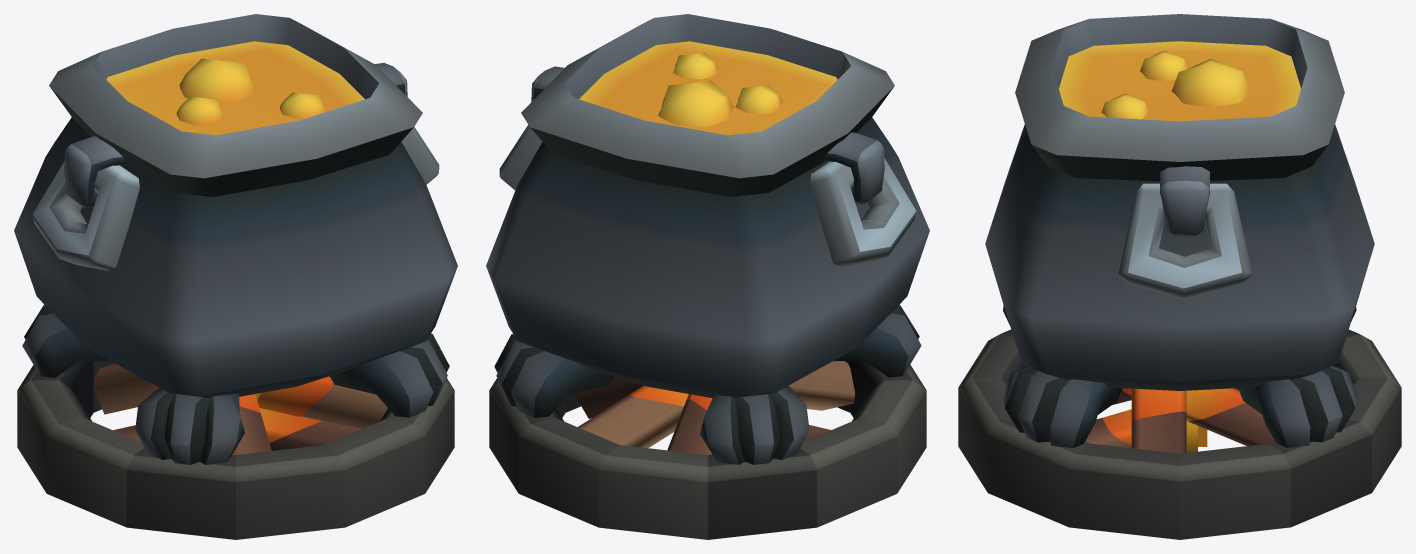
Rendered from fire_pit_pot_soup.fbx.
3 views of the same model, side by side, from view 1: azimuth 30°, elevation 25°; view 2: azimuth 150°, elevation 25°; view 3: azimuth 270°, elevation 25° (orthographic).
Visible parts, largest first — view 1: fire_pit_pot_soup; view 2: fire_pit_pot_soup; view 3: fire_pit_pot_soup.
Boxes of the visible parts, <box> form: fire_pit_pot_soup: <box>14,14,457,539</box>; fire_pit_pot_soup: <box>486,14,929,539</box>; fire_pit_pot_soup: <box>958,14,1401,539</box>.
Size of the model in its own units: 102 by 96.82 by 102.
